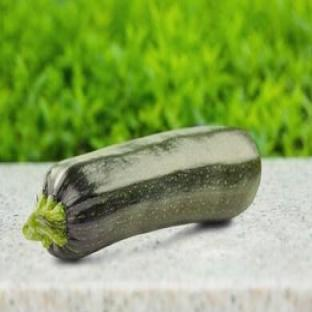Zucchini: (24, 128, 260, 259)
